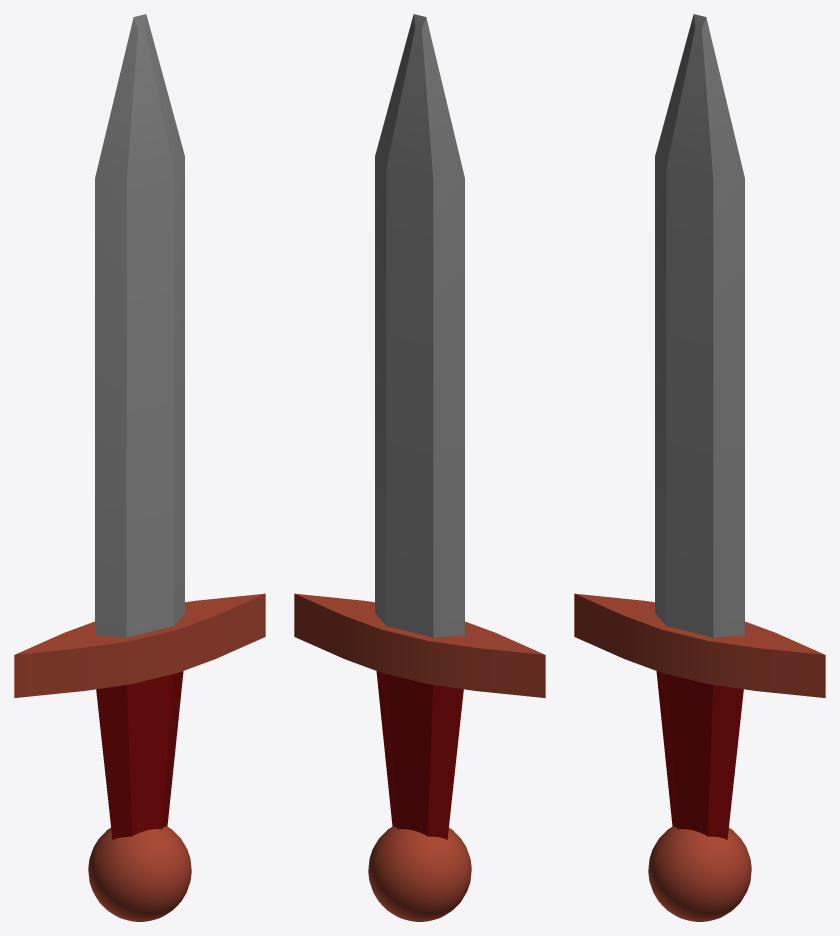
Rendered from sword.fbx.
The picture shows the model from 3 angles, left to right: view 1: azimuth 30°, elevation 25°; view 2: azimuth 150°, elevation 25°; view 3: azimuth 330°, elevation 25°; orthographic projection.
Parts seen in each view (by area): view 1: Cube; view 2: Cube; view 3: Cube.
Part boxes in pixels (bbox=[...]): Cube: bbox=[14, 14, 265, 921]; Cube: bbox=[294, 14, 545, 921]; Cube: bbox=[574, 14, 825, 921].
Size of the model in its own units: 52.76 by 181 by 18.84.
